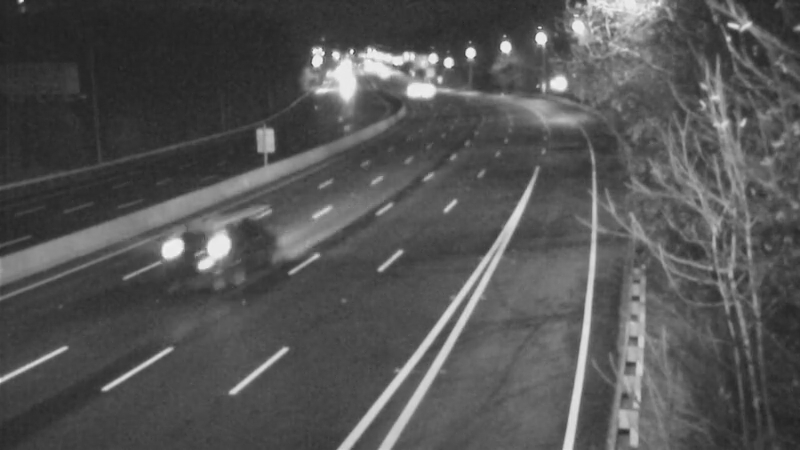vehicle: (180, 211, 260, 291), (398, 63, 448, 113), (387, 65, 437, 115)
